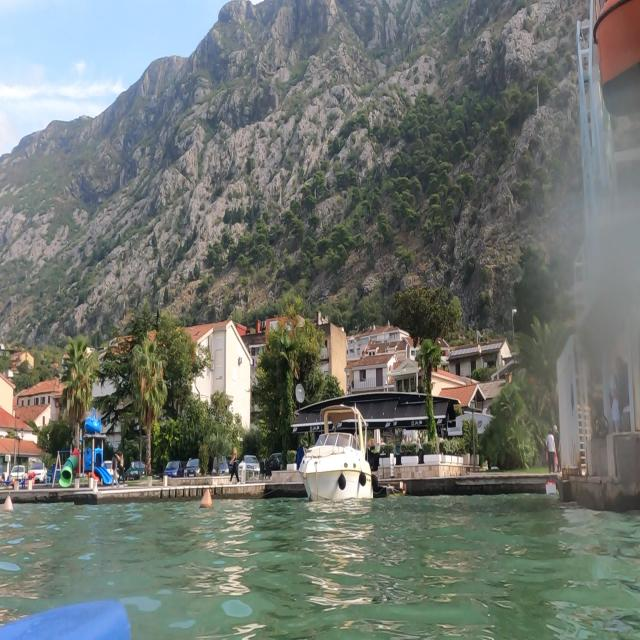boat: (297, 401, 375, 505)
buoy: (196, 482, 219, 514), (1, 489, 20, 517)
